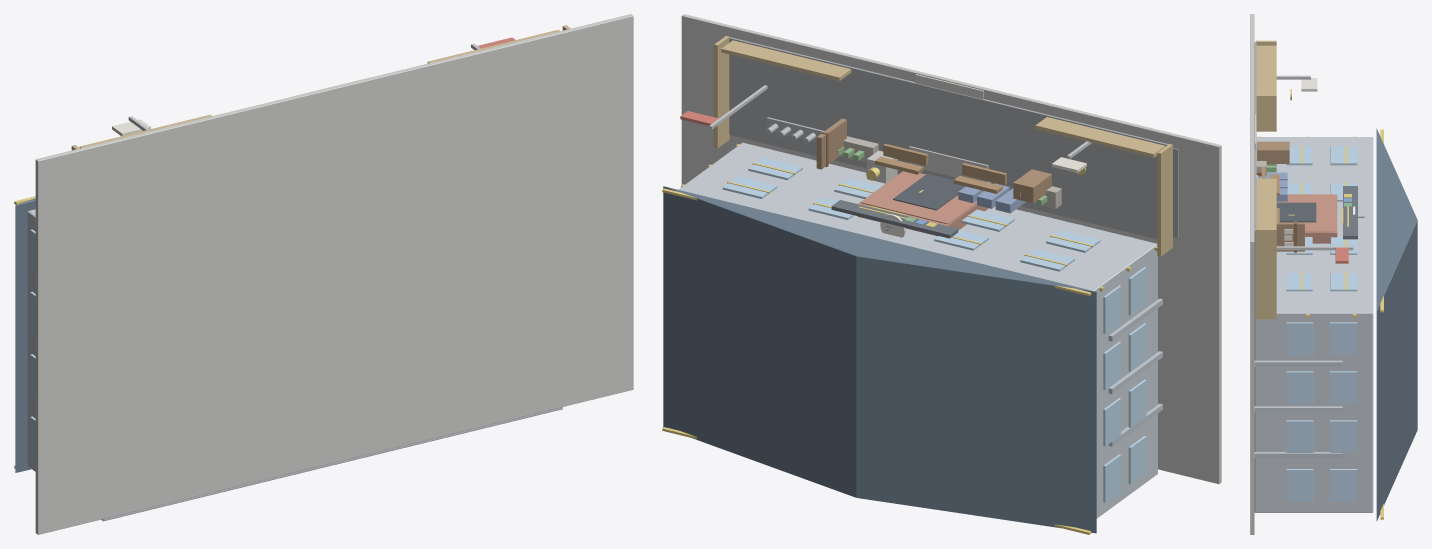
Rendered from secondaryschool.fbx.
The picture shows the model from 3 angles, left to right: view 1: azimuth 30°, elevation 25°; view 2: azimuth 150°, elevation 25°; view 3: azimuth 270°, elevation 25°; orthographic projection. The views are drawn at different scales.
Parts seen in each view (by area): view 1: GroundBase, Roof_DarkBlue, MainHall; view 2: Roof_DarkBlue, GroundBase, SchoolYard, MainHall, EntranceBrickFrame, Fence_Front_Right, Fence_Front_Left, Fence_Left, Fence_Right, FrontDoor, SchoolSign, FrontDoor_Step (+16 smaller); view 3: MainHall, Roof_DarkBlue, GroundBase, Fence_Right, EntranceBrickFrame, Fence_Front_Left, Fence_Front_Right, SideWindow_R_Lower_04, SideWindow_R_Upper_04, SideWindow_R_Lower_01, SideWindow_R_Lower_02, SideWindow_R_Lower_03 (+23 smaller).
Boxes of the visible parts, x1=… form: GroundBase: x1=35, y1=14, x2=633, y2=534; Roof_DarkBlue: x1=15, y1=198, x2=35, y2=472; MainHall: x1=27, y1=209, x2=562, y2=521; Roof_DarkBlue: x1=663, y1=186, x2=1096, y2=533; GroundBase: x1=681, y1=14, x2=1221, y2=484; SchoolYard: x1=729, y1=37, x2=1168, y2=239; MainHall: x1=678, y1=142, x2=1157, y2=518; EntranceBrickFrame: x1=860, y1=171, x2=976, y2=224; Fence_Front_Right: x1=721, y1=40, x2=851, y2=81; Fence_Front_Left: x1=1035, y1=117, x2=1165, y2=157; Fence_Left: x1=1157, y1=144, x2=1172, y2=256; Fence_Right: x1=714, y1=36, x2=729, y2=148; FrontDoor: x1=893, y1=173, x2=965, y2=210; SchoolSign: x1=831, y1=200, x2=958, y2=238; FrontDoor_Step: x1=909, y1=146, x2=988, y2=182; MainHall: x1=1254, y1=137, x2=1373, y2=512; Roof_DarkBlue: x1=1376, y1=128, x2=1417, y2=521; GroundBase: x1=1250, y1=14, x2=1254, y2=534; Fence_Right: x1=1256, y1=228, x2=1276, y2=319; EntranceBrickFrame: x1=1276, y1=194, x2=1334, y2=232; Fence_Front_Left: x1=1256, y1=45, x2=1276, y2=98; Fence_Front_Right: x1=1256, y1=178, x2=1276, y2=228; SideWindow_R_Lower_04: x1=1286, y1=322, x2=1313, y2=355; SideWindow_R_Upper_04: x1=1330, y1=322, x2=1357, y2=355; SideWindow_R_Lower_01: x1=1286, y1=469, x2=1313, y2=501; SideWindow_R_Lower_02: x1=1286, y1=420, x2=1313, y2=452; SideWindow_R_Lower_03: x1=1286, y1=371, x2=1313, y2=403.
Bounding box in the file's own units: 1500 × 928 × 466.
